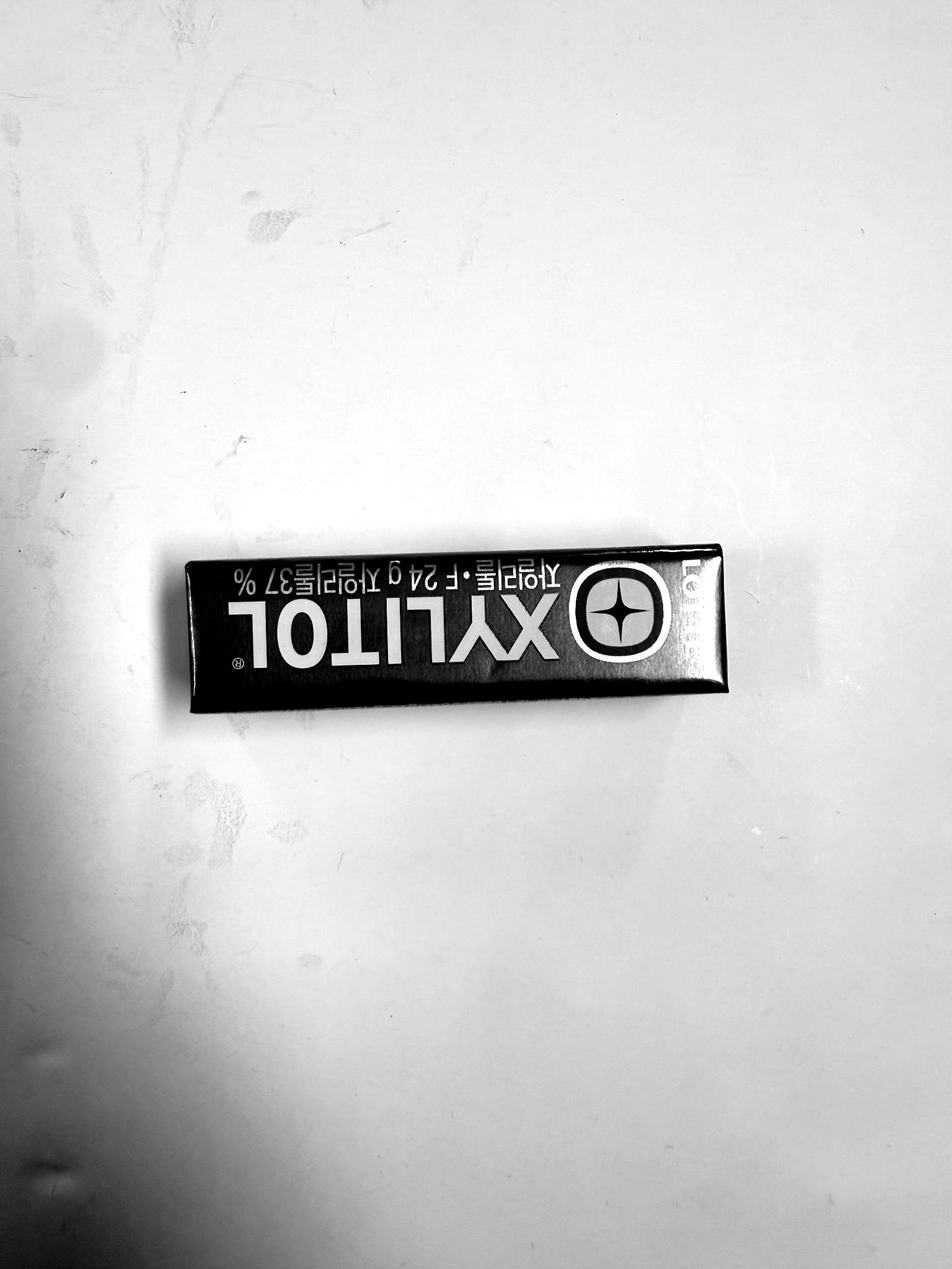gum_green: (187, 546, 732, 721)
